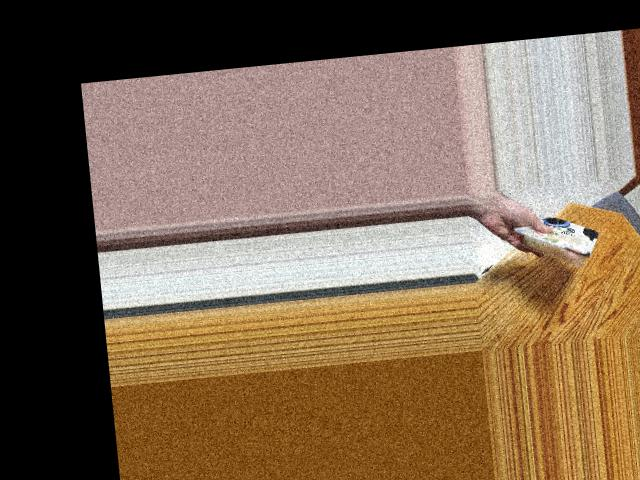cheese: (524, 200, 597, 270)
